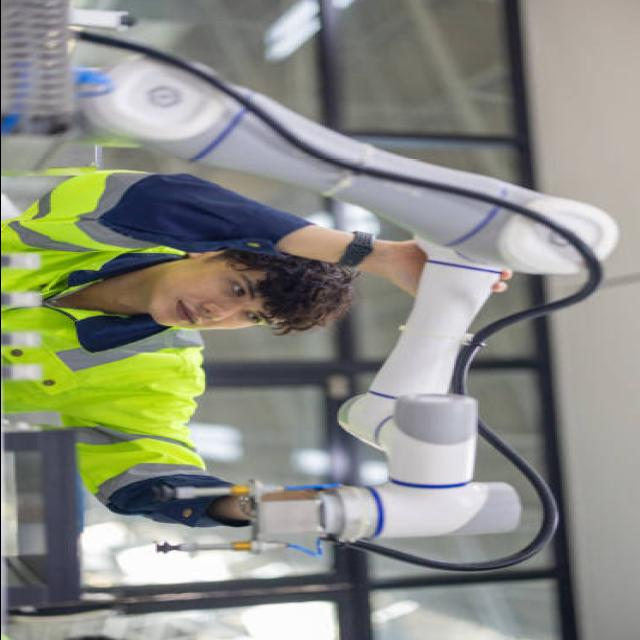Robotic-arm: (66, 55, 621, 558)
